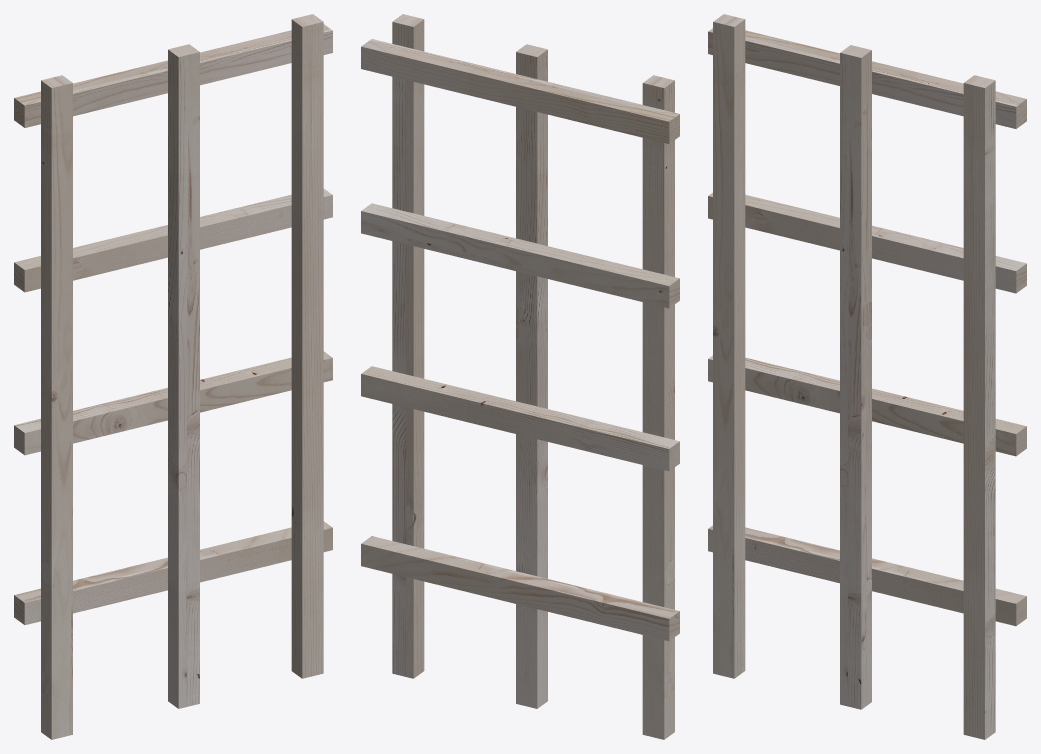
File: VineWall1.fbx
3 views of the same model, side by side, from view 1: azimuth 30°, elevation 25°; view 2: azimuth 150°, elevation 25°; view 3: azimuth 330°, elevation 25° (orthographic).
Visible parts, largest first — view 1: VineWall1; view 2: VineWall1; view 3: VineWall1.
Boxes of the visible parts, x1,y1,x2,y2 form: VineWall1: (14,14,332,739); VineWall1: (361,14,679,739); VineWall1: (708,14,1026,739).
Size of the model in its own units: 55.31 by 112 by 6.73.
